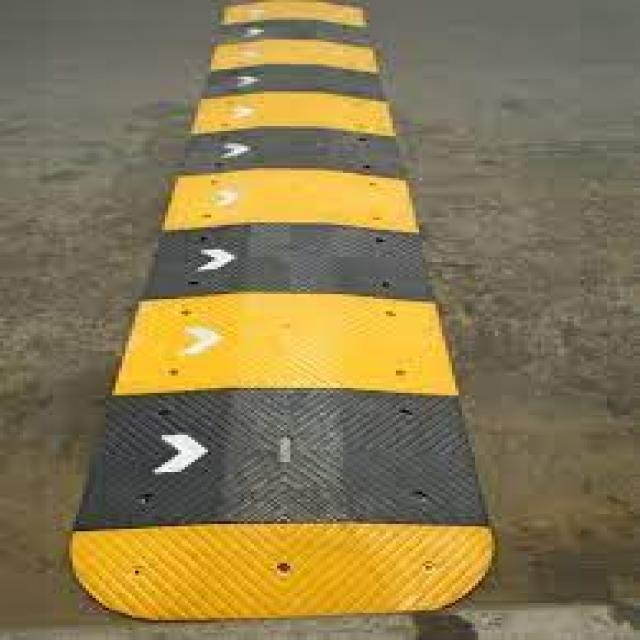speed-bump: (46, 0, 580, 639)
